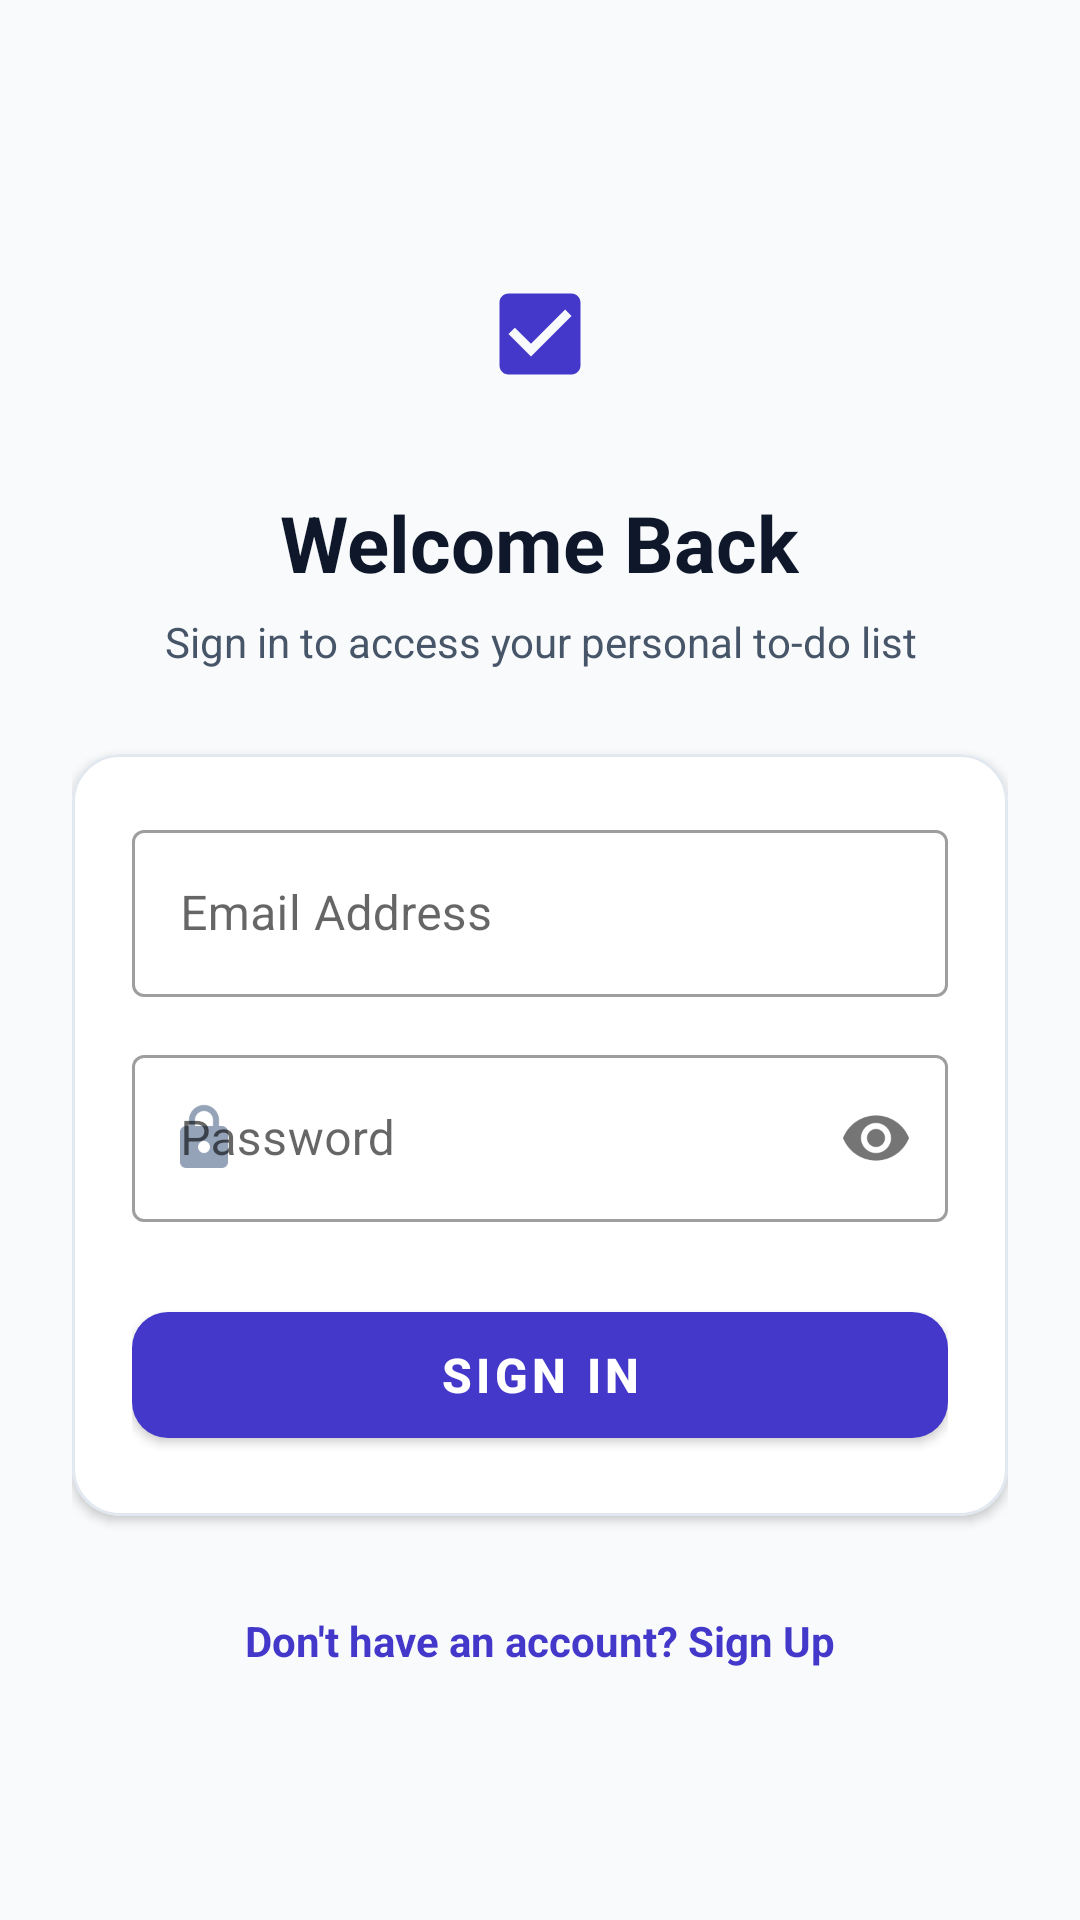

Screen size 1080px x 1920px. Icon name, then its box in pixels as (x1, y1, x2, y2):
To-Do List: (499, 293, 581, 375)
